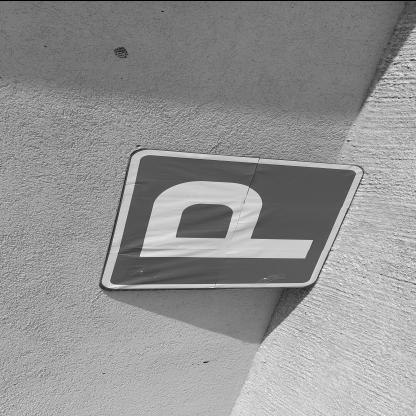Parking-Sign: (101, 147, 368, 291)
